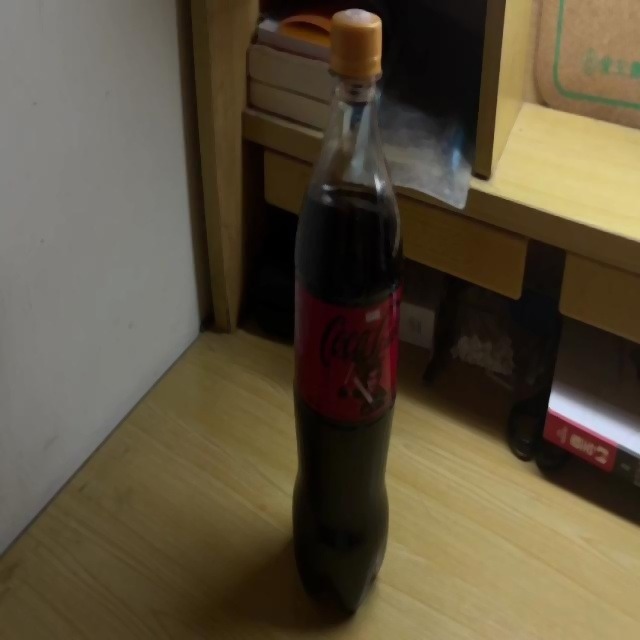Coca-Cola: (294, 6, 404, 616)
